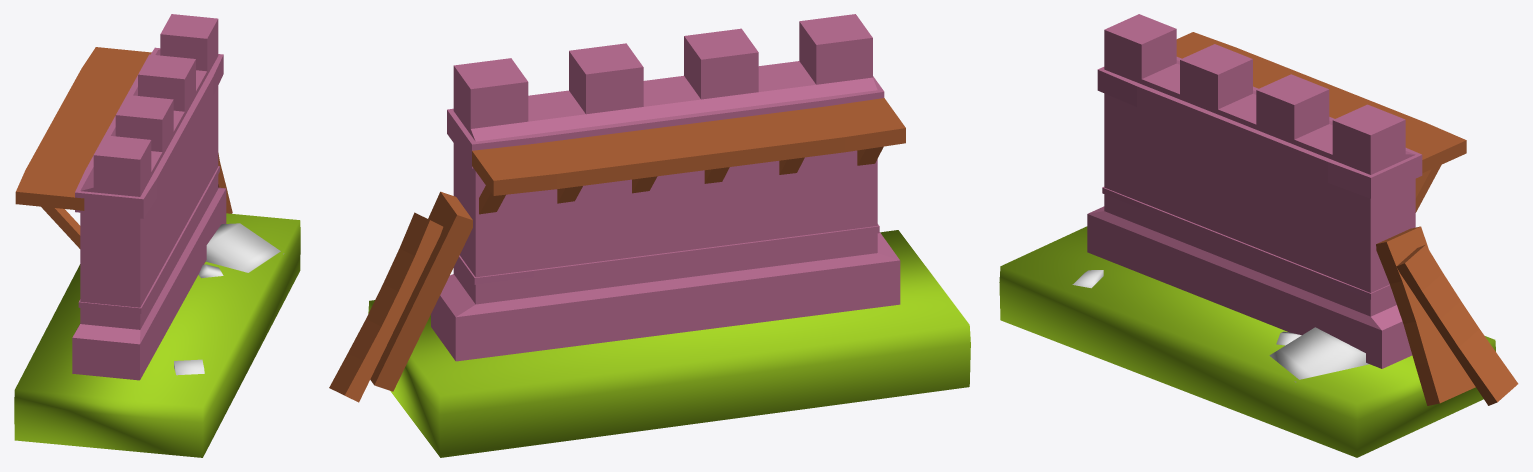
Rendered from wall.fbx.
3 views of the same model, side by side, from view 1: azimuth 30°, elevation 25°; view 2: azimuth 150°, elevation 25°; view 3: azimuth 270°, elevation 25° (orthographic). The views are drawn at different scales.
Visible parts, largest first — view 1: Cube.040, Cube.001, Cube.067, Cube.062, Cube.068, Cube.064; view 2: Cube.040, Cube.001, Cube.067, Cube.066, Cube.065, Cube.068, Cube.069, Cube.070; view 3: Cube.040, Cube.001, Cube.066, Cube.065, Cube.067, Cube.062.
Boxes of the visible parts, x1=… form: Cube.040: x1=72, y1=14, x2=226, y2=380; Cube.001: x1=14, y1=213, x2=300, y2=457; Cube.067: x1=15, y1=47, x2=151, y2=210; Cube.062: x1=206, y1=223, x2=284, y2=272; Cube.068: x1=41, y1=206, x2=80, y2=248; Cube.064: x1=174, y1=359, x2=204, y2=375; Cube.040: x1=431, y1=14, x2=900, y2=361; Cube.001: x1=368, y1=230, x2=970, y2=457; Cube.067: x1=472, y1=98, x2=905, y2=195; Cube.066: x1=329, y1=212, x2=443, y2=402; Cube.065: x1=370, y1=191, x2=472, y2=391; Cube.068: x1=479, y1=146, x2=883, y2=214; Cube.069: x1=557, y1=157, x2=804, y2=203; Cube.070: x1=632, y1=167, x2=729, y2=193; Cube.040: x1=1087, y1=14, x2=1422, y2=368; Cube.001: x1=999, y1=226, x2=1495, y2=457; Cube.066: x1=1396, y1=244, x2=1518, y2=405; Cube.065: x1=1376, y1=226, x2=1475, y2=405; Cube.067: x1=1176, y1=32, x2=1466, y2=173; Cube.062: x1=1269, y1=327, x2=1369, y2=382.
Bounding box in the file's own units: 537 × 351 × 582.
